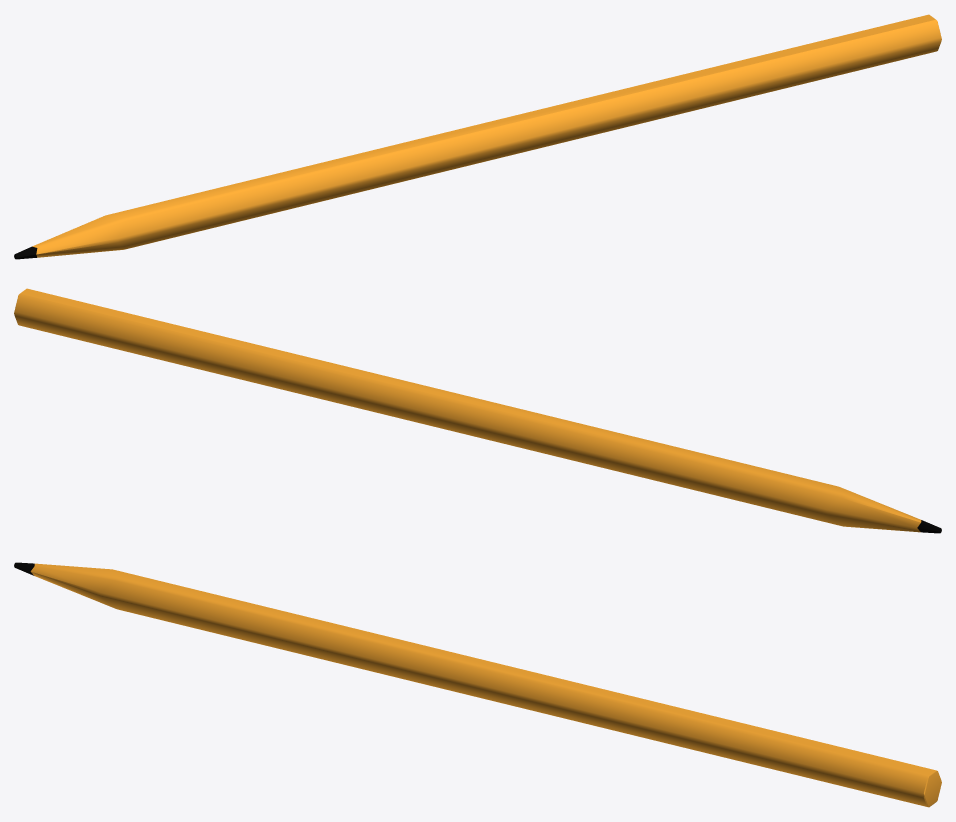
File: lapiz.fbx
The picture shows the model from 3 angles, top to bottom: view 1: azimuth 30°, elevation 25°; view 2: azimuth 150°, elevation 25°; view 3: azimuth 330°, elevation 25°; orthographic projection.
Parts seen in each view (by area): view 1: Circle.005; view 2: Circle.005; view 3: Circle.005.
Boxes of the visible parts, bbox=[...] form: Circle.005: bbox=[14, 14, 941, 259]; Circle.005: bbox=[14, 288, 941, 533]; Circle.005: bbox=[14, 562, 941, 807].
Size of the model in its own units: 30 by 1 by 1.
